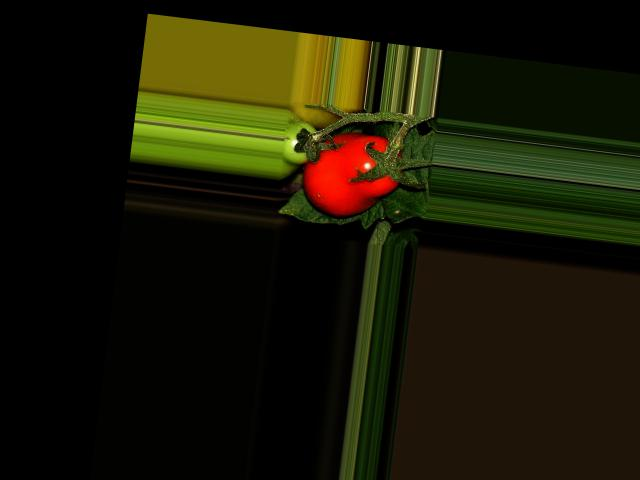tomato: (298, 127, 406, 223)
